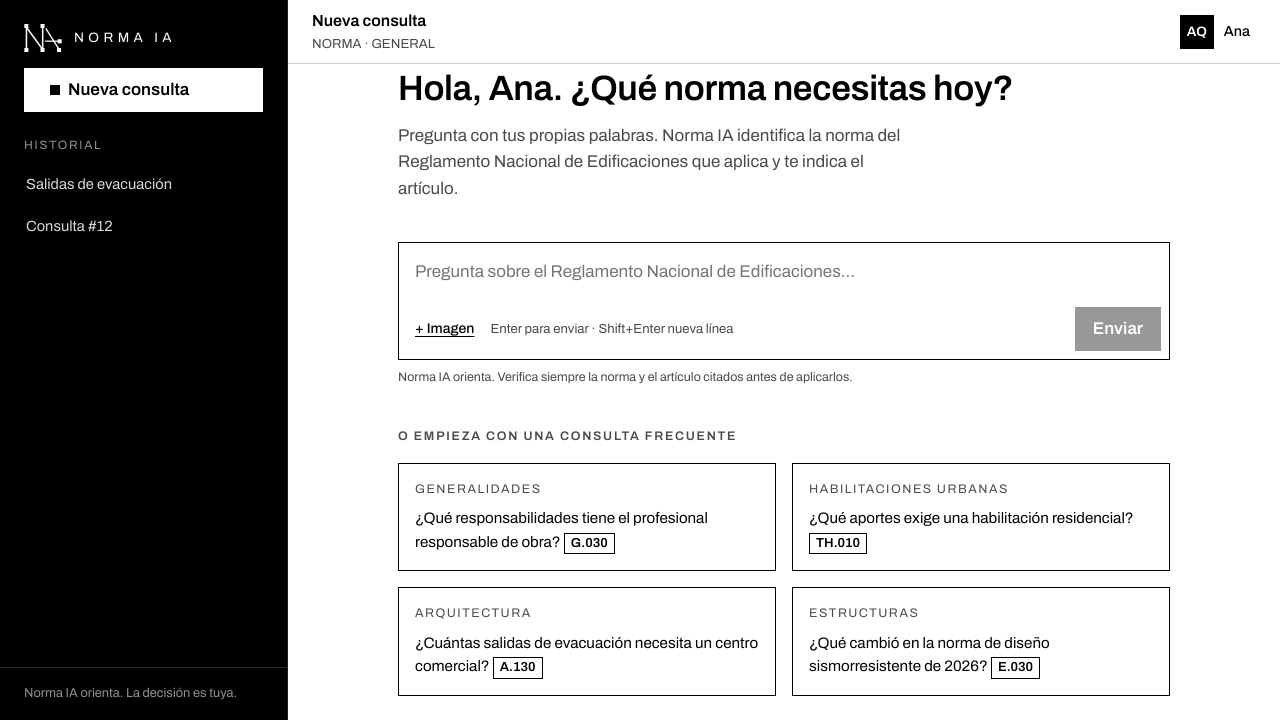
Test: chat del usuario final › una sugerencia inicia el streaming; el texto acumulado no se duplica y el chat nuevo aparece en el historial
(page scrolled)
Click the button "salidas de evacuación necesita" at {"x": 587, "y": 641}, box left=398, top=587, right=776, bottom=696
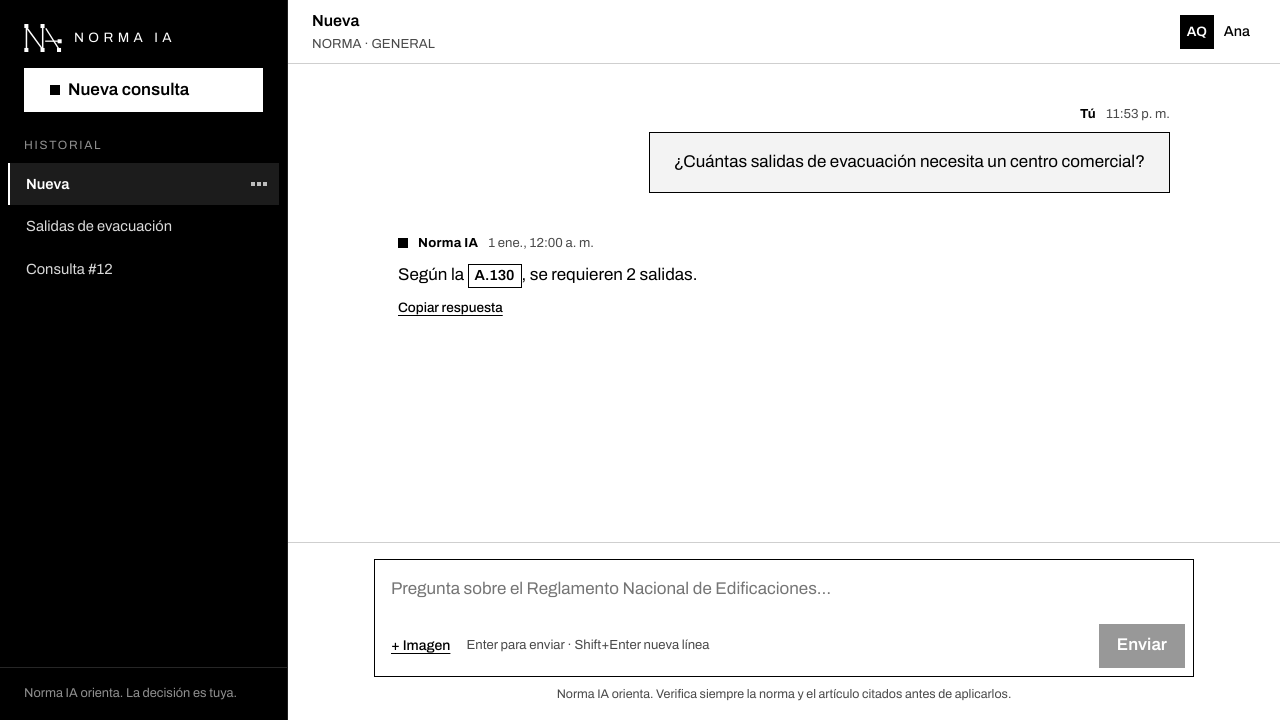
Expected: the element named "Respuesta de Norma IA" shows "Según la A.130, se requieren 2 salidas.", left=398, top=235, right=697, bottom=318
Expected: the button "Copiar respuesta" is shown, left=398, top=297, right=503, bottom=318
